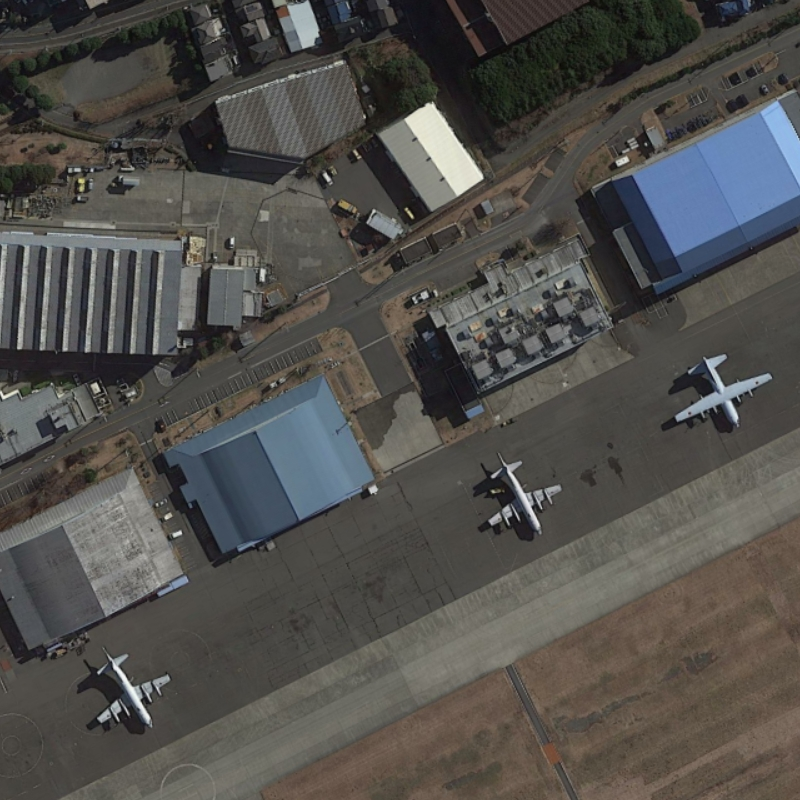A2: (658, 344, 776, 443)
A9: (478, 444, 568, 539), (84, 646, 174, 730)
